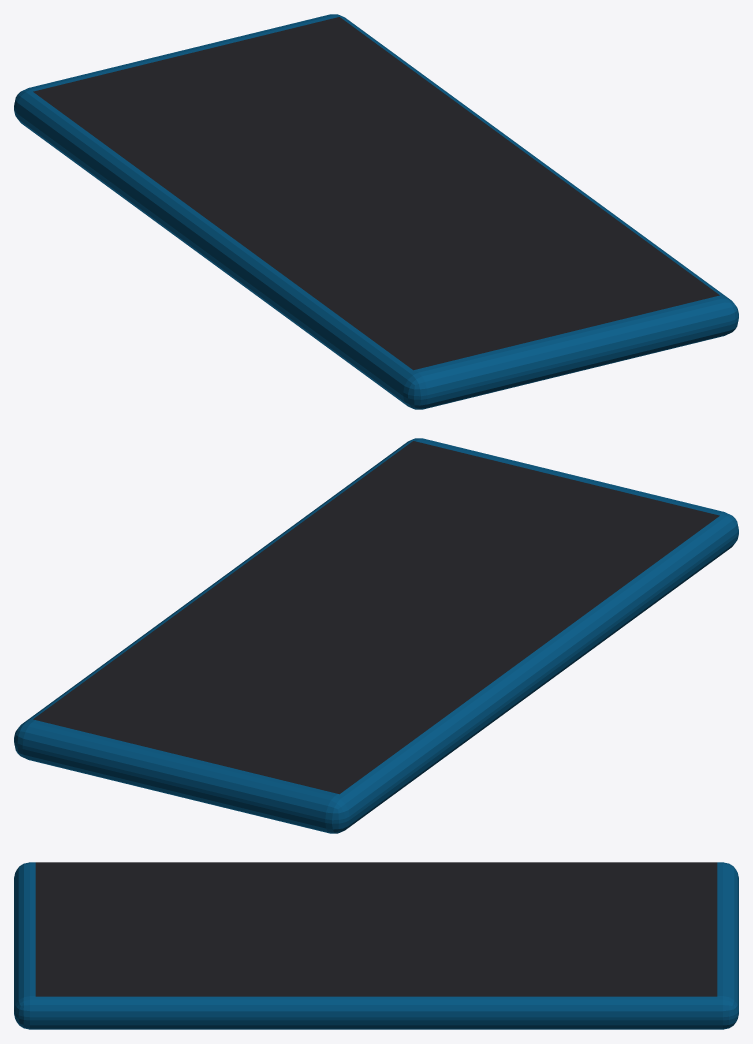
File: infinix-gen-2024-budget-2024.glb
3 renders of one model, top to bottom at view 1: azimuth 30°, elevation 25°; view 2: azimuth 150°, elevation 25°; view 3: azimuth 270°, elevation 25°, orthographic. The views are drawn at different scales.
Parts seen in each view (by area): view 1: Phone_Screen, Phone_Body; view 2: Phone_Screen, Phone_Body; view 3: Phone_Screen, Phone_Body.
Boxes of the visible parts, x1,y1,x2,y2 form: Phone_Screen: [33, 17, 719, 370]; Phone_Body: [14, 14, 738, 409]; Phone_Screen: [33, 441, 719, 794]; Phone_Body: [14, 438, 738, 833]; Phone_Screen: [35, 862, 717, 996]; Phone_Body: [14, 862, 738, 1029].
Bounding box in the file's own units: 0.071 × 0.0074 × 0.1493.
